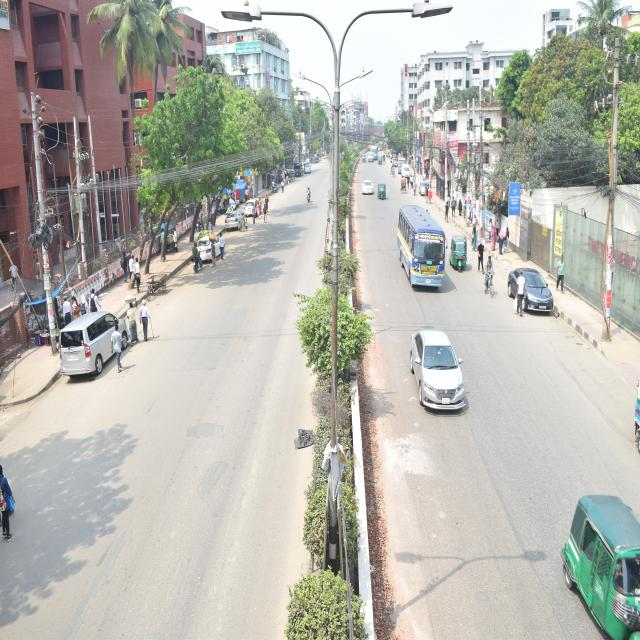bus: (394, 198, 451, 294)
car: (412, 322, 470, 423), (54, 309, 133, 383), (508, 262, 555, 318), (193, 232, 228, 266), (219, 209, 249, 235), (242, 196, 266, 221), (359, 177, 377, 197)
motorbike: (305, 182, 315, 207)
